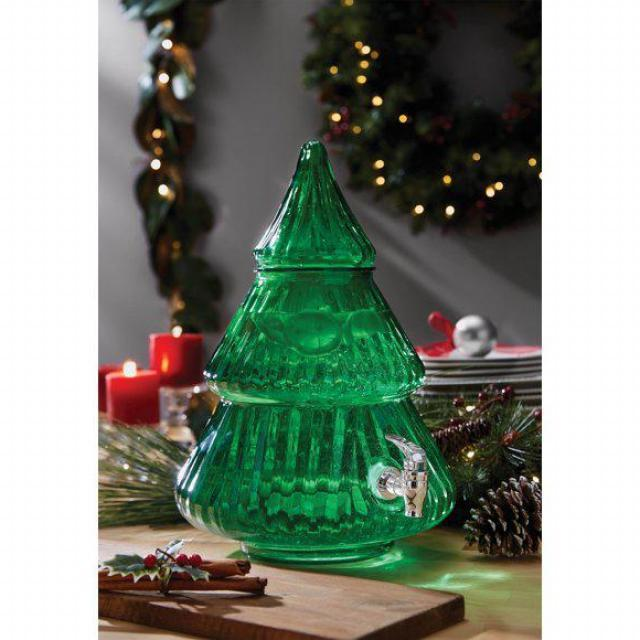glass: (166, 136, 463, 565)
